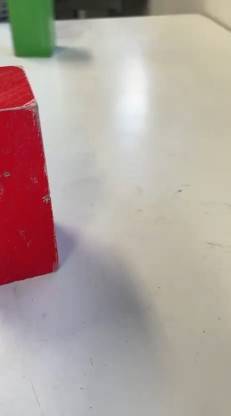red: (0, 78, 79, 264)
